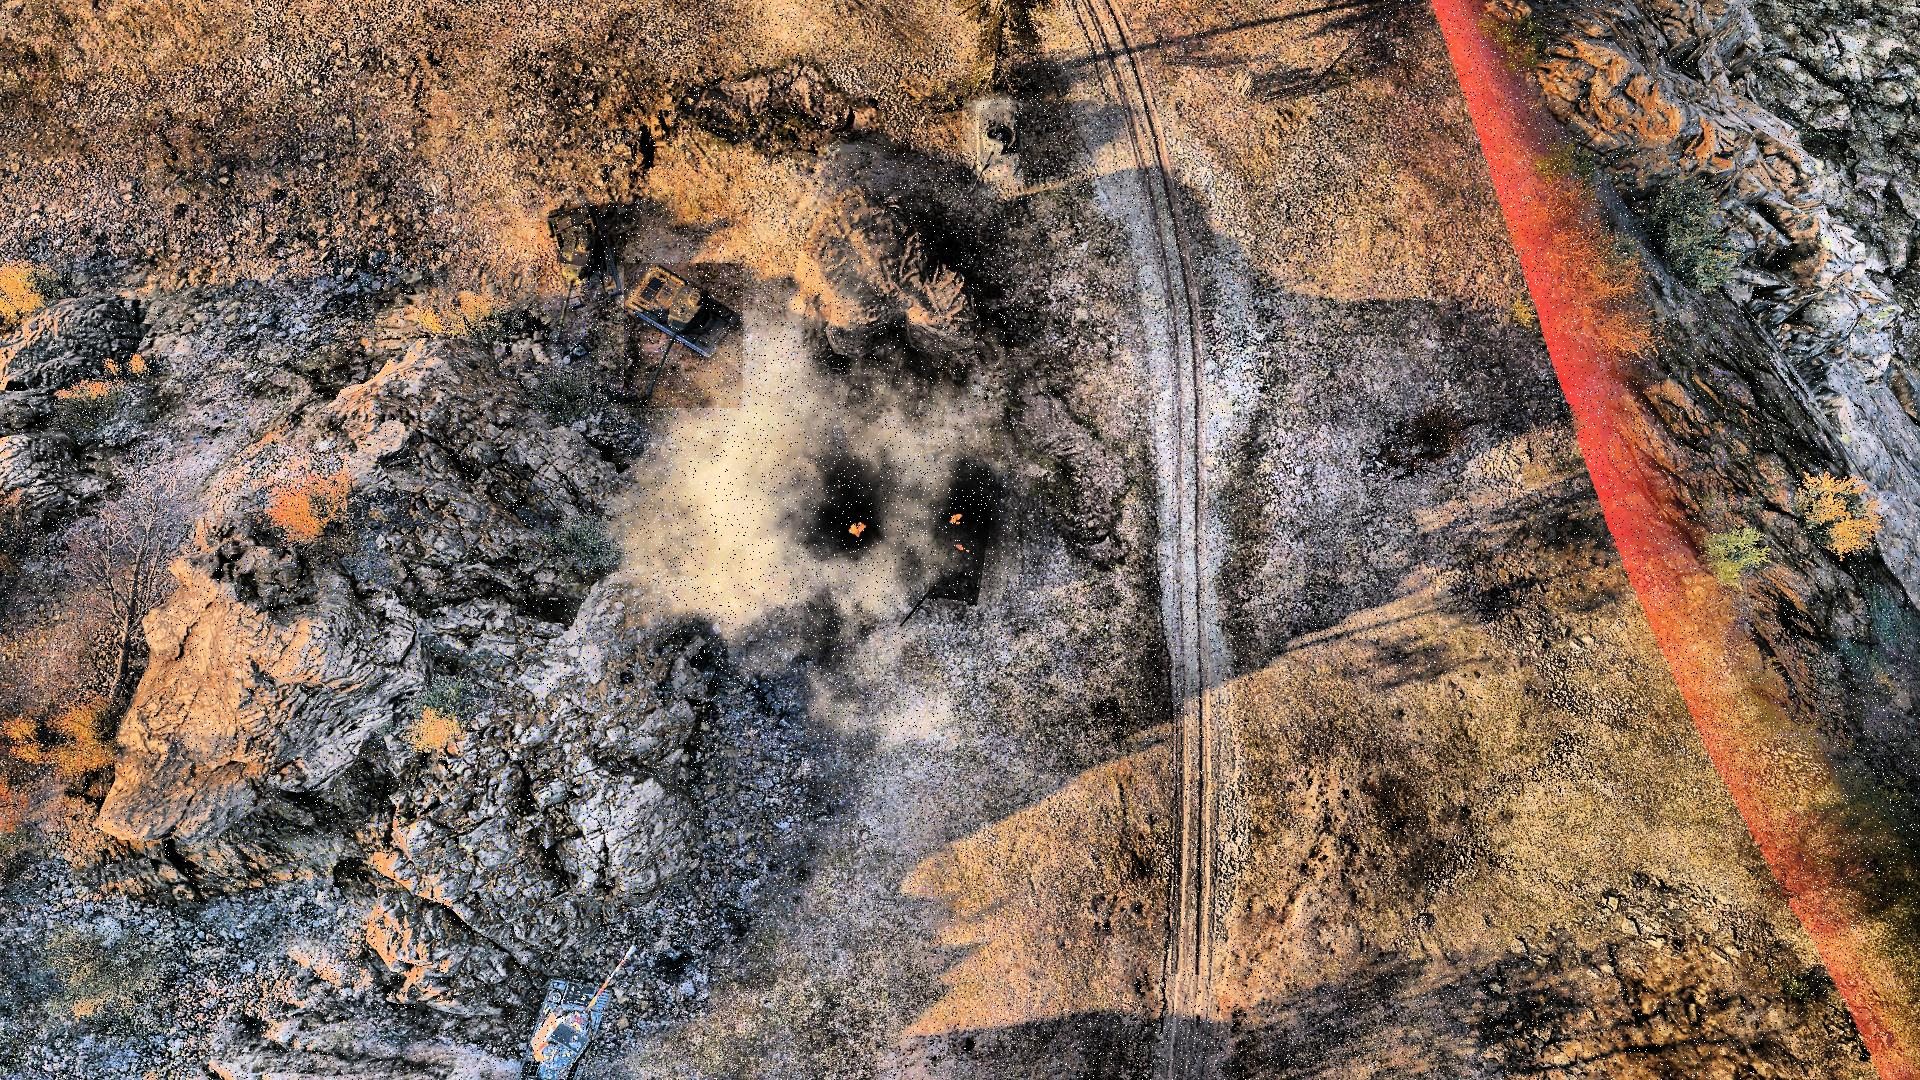military-vehicle: (625, 262, 744, 407), (537, 203, 617, 347), (963, 102, 1023, 199)
